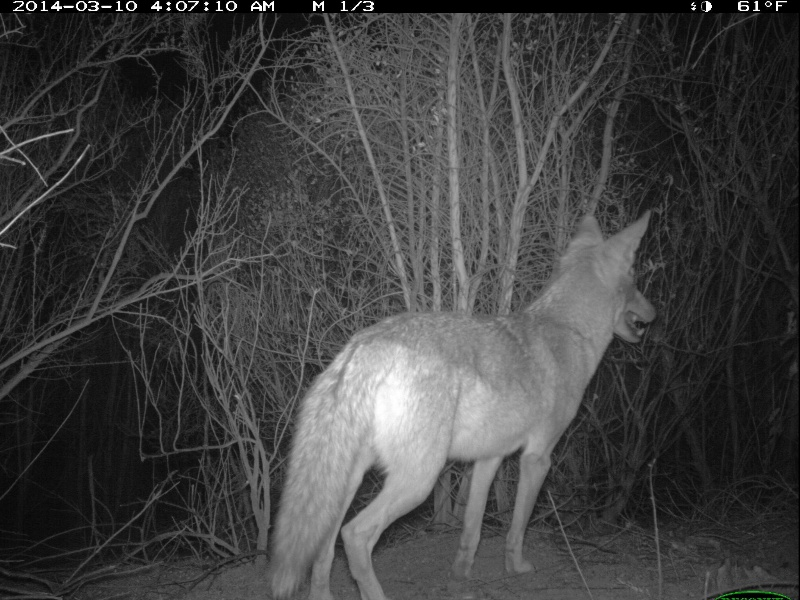coyote: (266, 206, 661, 598)
